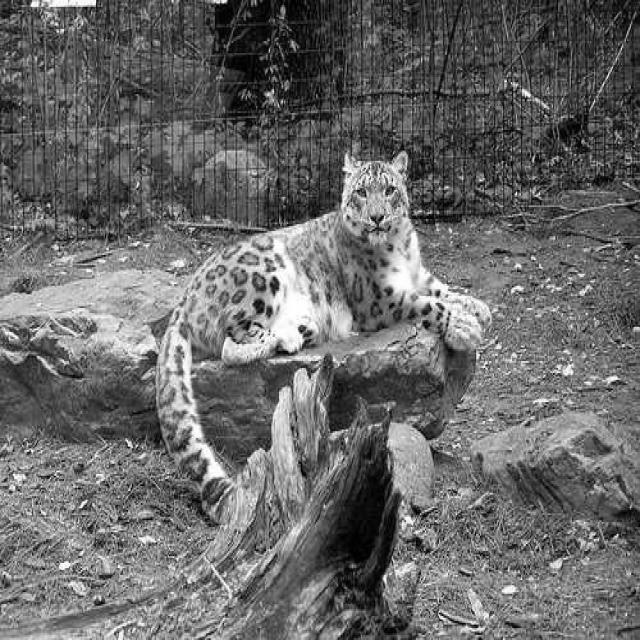Leopard: (133, 113, 540, 510)
